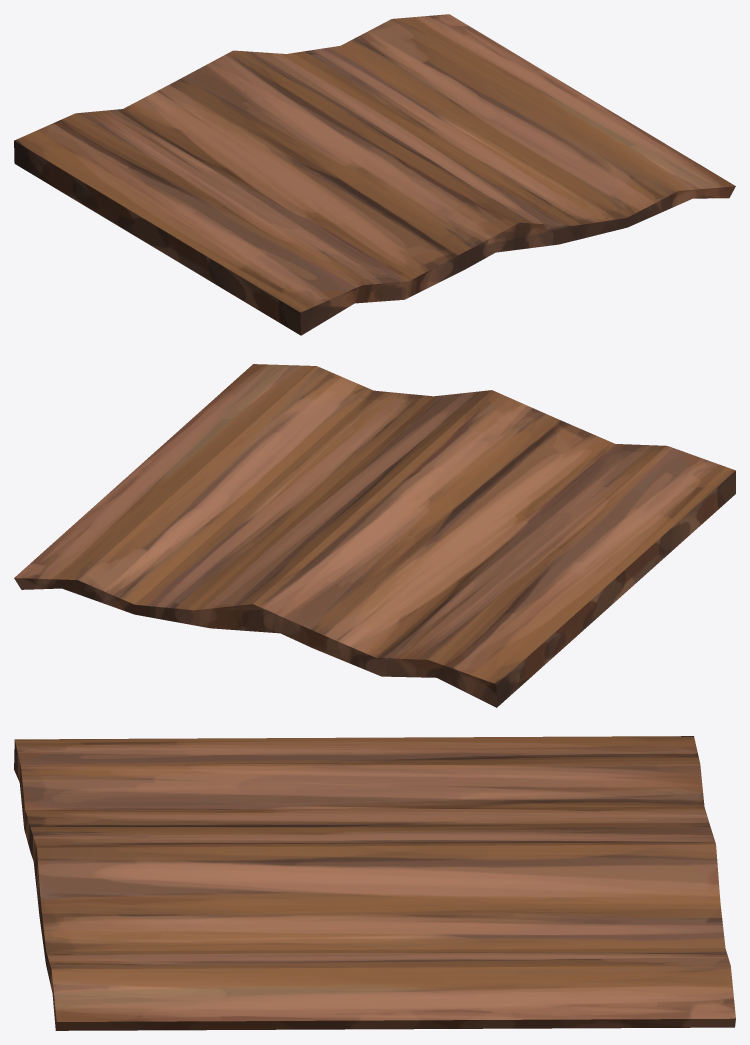
File: Cardboard.fbx
3 renders of one model, top to bottom at view 1: azimuth 30°, elevation 25°; view 2: azimuth 150°, elevation 25°; view 3: azimuth 270°, elevation 25°, orthographic. The views are drawn at different scales.
Parts seen in each view (by area): view 1: Cardboard01; view 2: Cardboard01; view 3: Cardboard01.
Part boxes in pixels (x1=…): Cardboard01: x1=14, y1=14, x2=735, y2=335; Cardboard01: x1=14, y1=364, x2=735, y2=707; Cardboard01: x1=14, y1=736, x2=735, y2=1030.
Size of the model in its own units: 1198 by 149 by 1193.
Materials: 1 (1 with a texture image).
